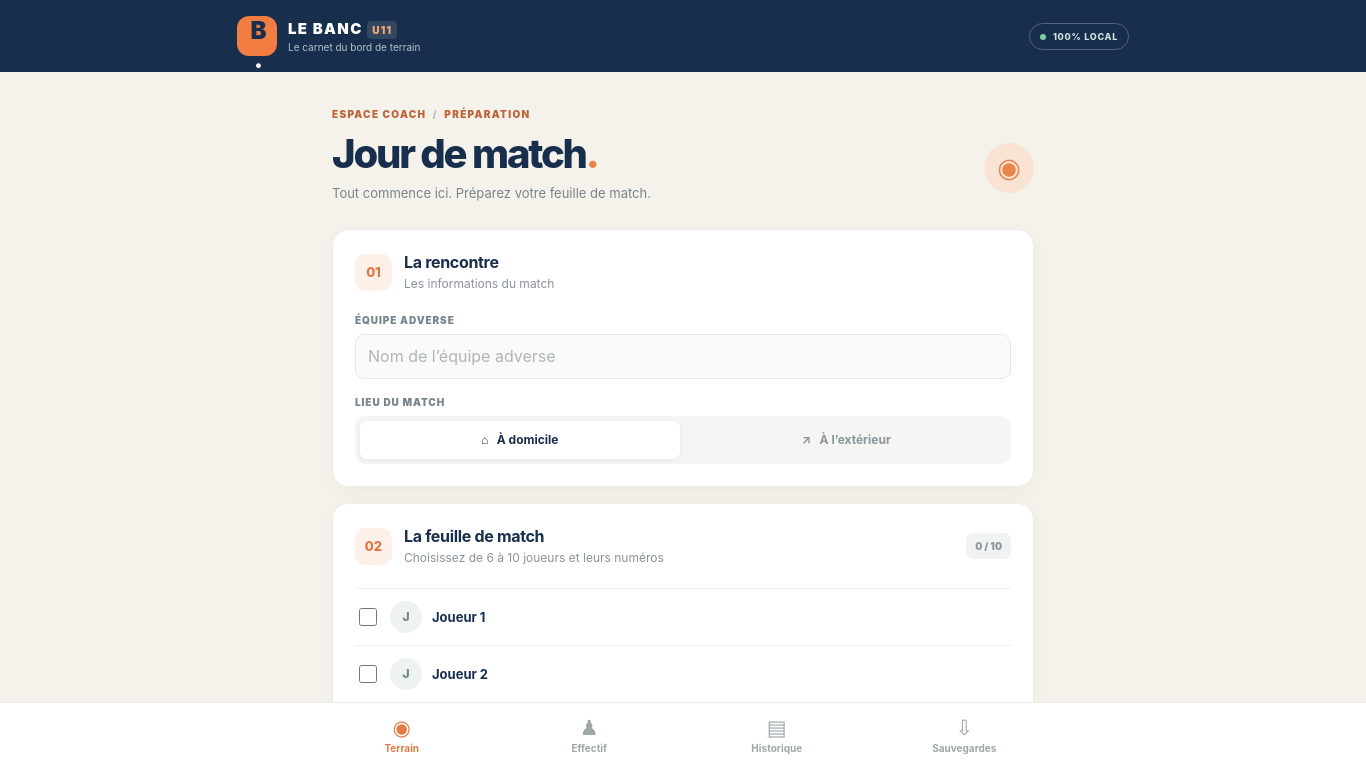
Test: coach workflow › automatic file backup › reports a picker failure without linking or writing a file
Check: the heading "Jour de match." is shown, box [332,129,598,178]
Step 1. Click the button "⇩ Sauvegardes" → [964, 736], box [870,703,1058,767]
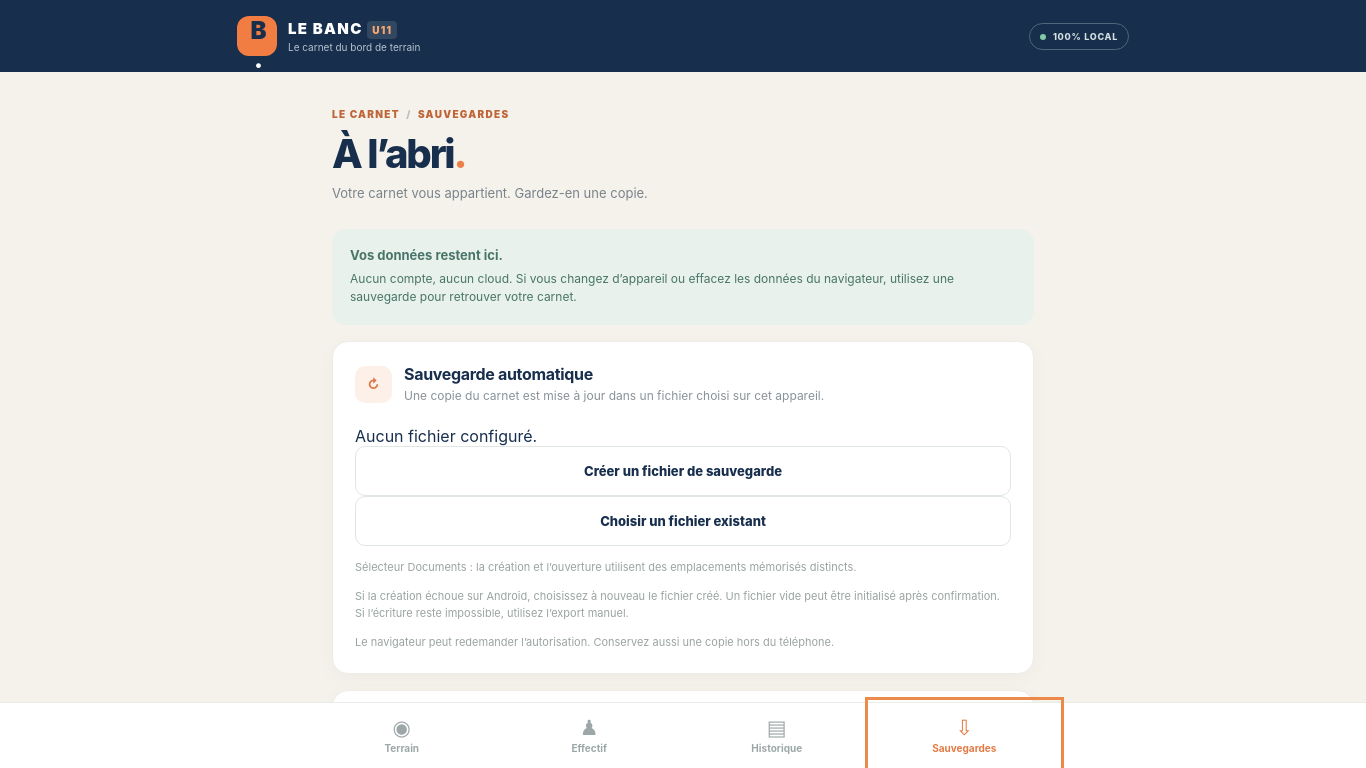
Step 2. Click the button "Choisir un fichier existant" → [683, 521], box [355,496,1011,546]
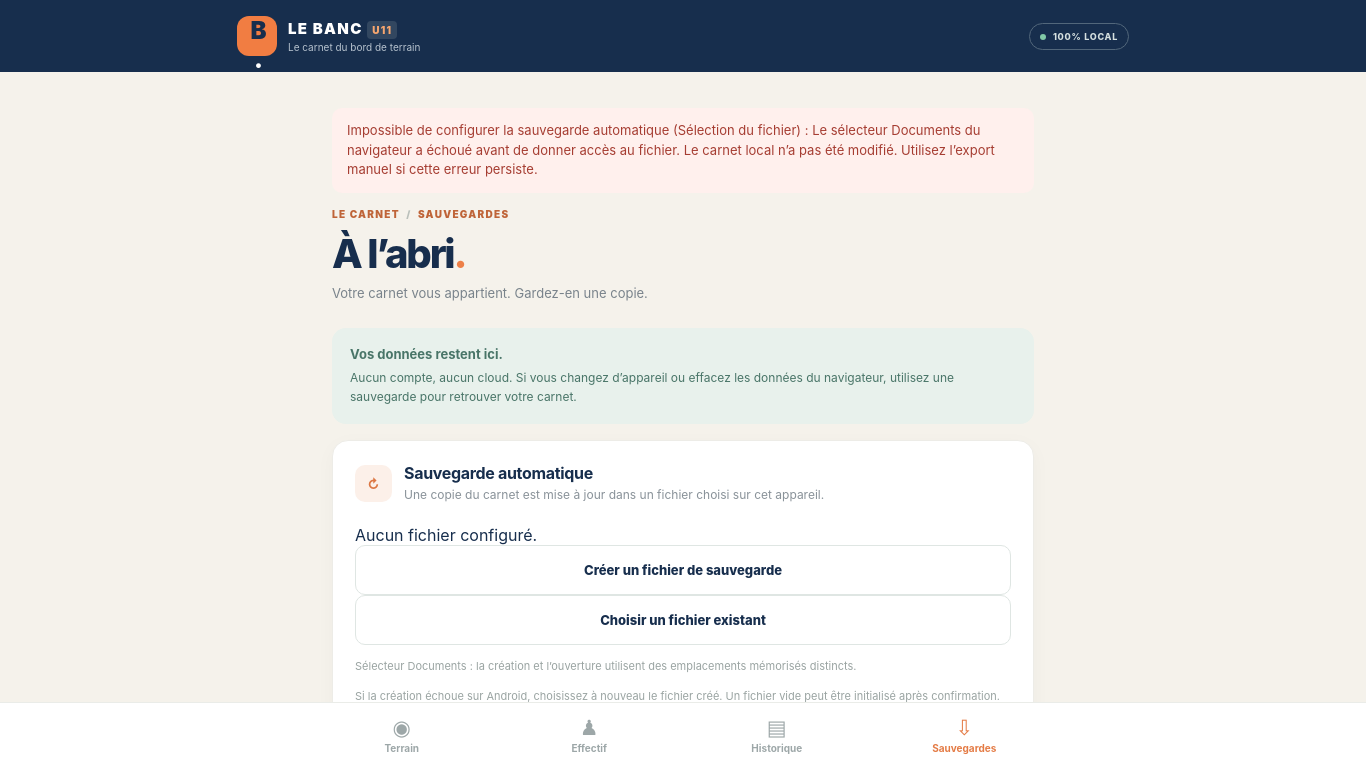
Check: the message shows "sélecteur Documents", box [347,122,995,177]
